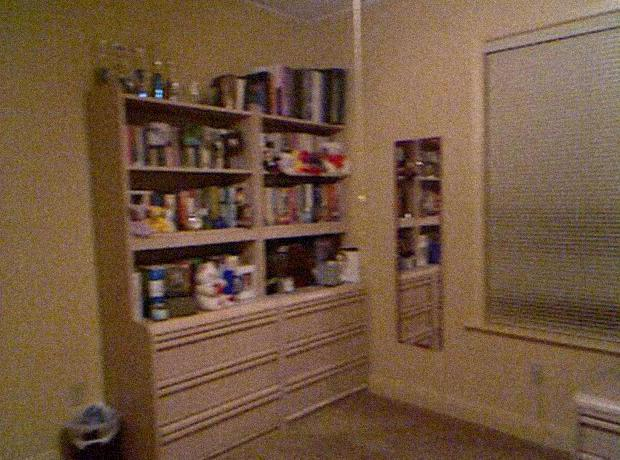Bote de Basura: (63, 400, 126, 457)
